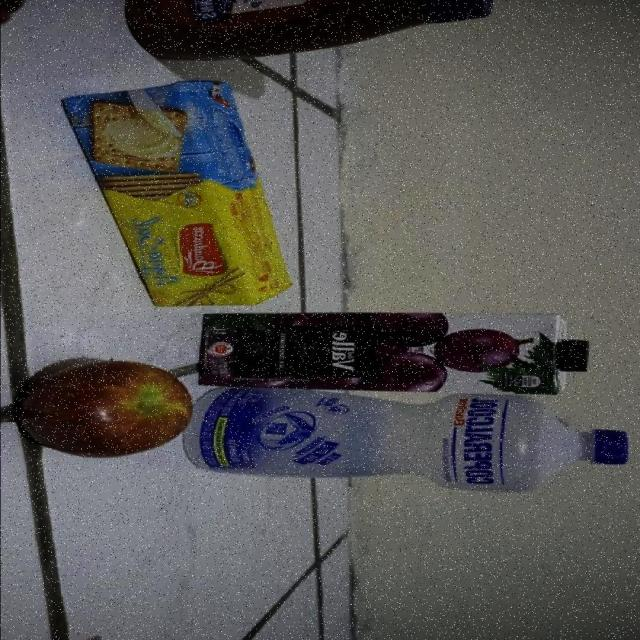AlcoholBottle: (200, 389, 627, 496)
Apple: (20, 360, 195, 458)
Cracker: (56, 81, 293, 308)
Ketchup: (126, 0, 492, 59)
